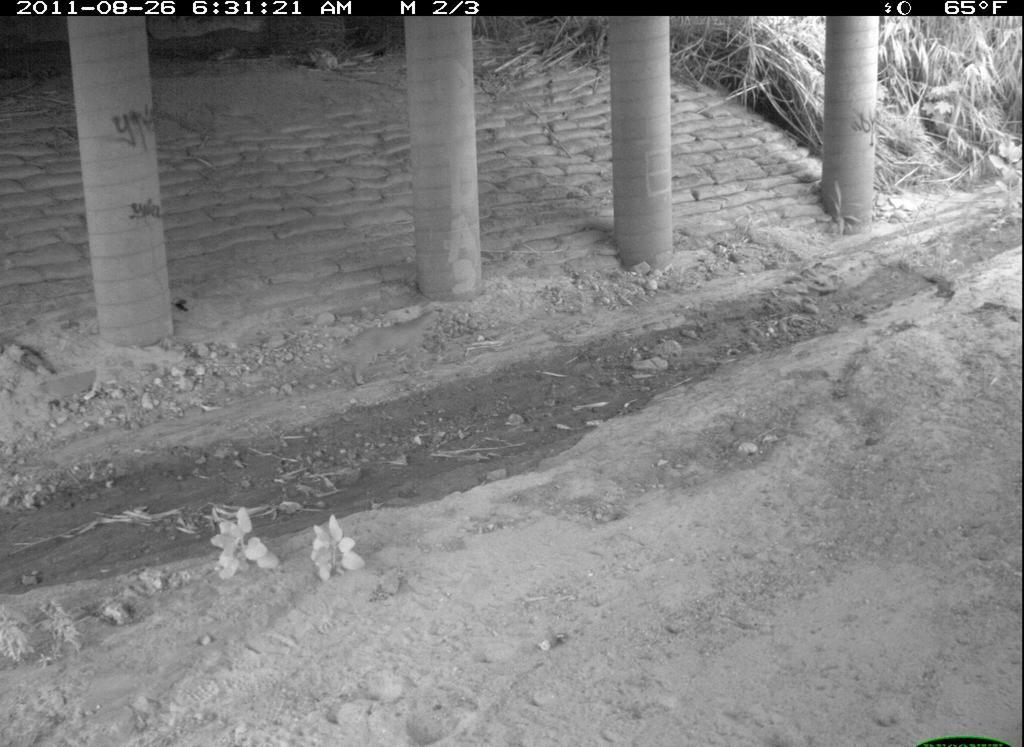bobcat: (653, 612, 897, 747)
